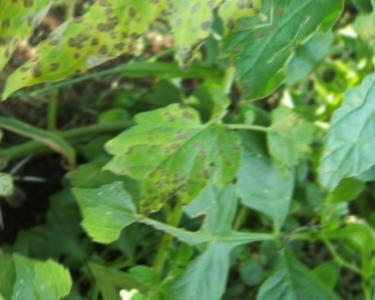Tomato Septoria leaf spot: (0, 0, 245, 172), (84, 69, 267, 253)
